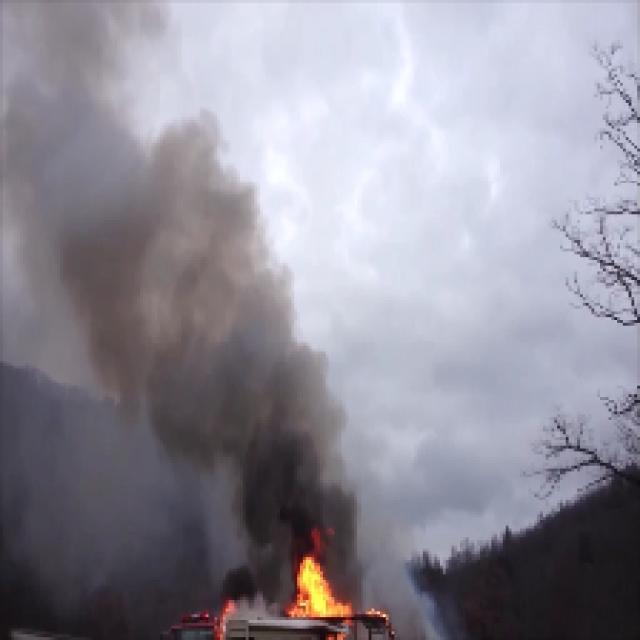fire: (294, 554, 336, 614)
smoke: (144, 195, 234, 428), (243, 364, 341, 542)
